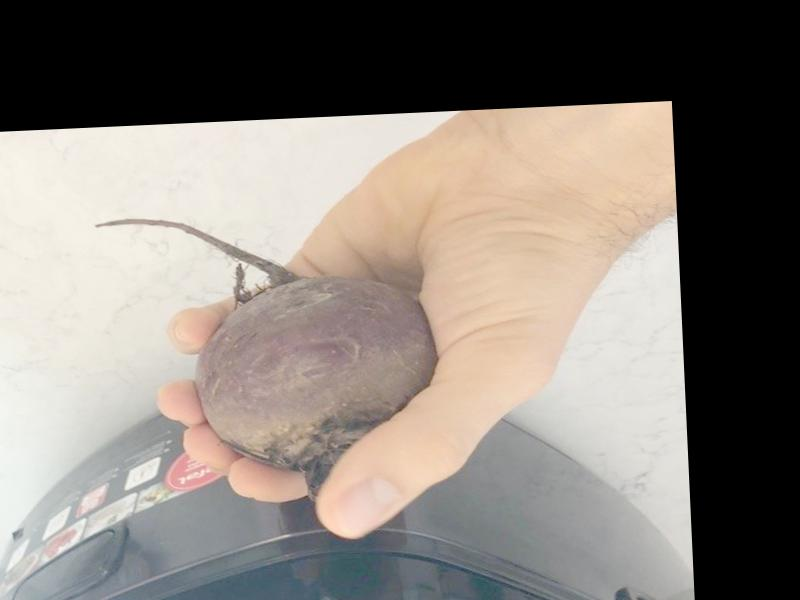Beet: (94, 205, 441, 506)
